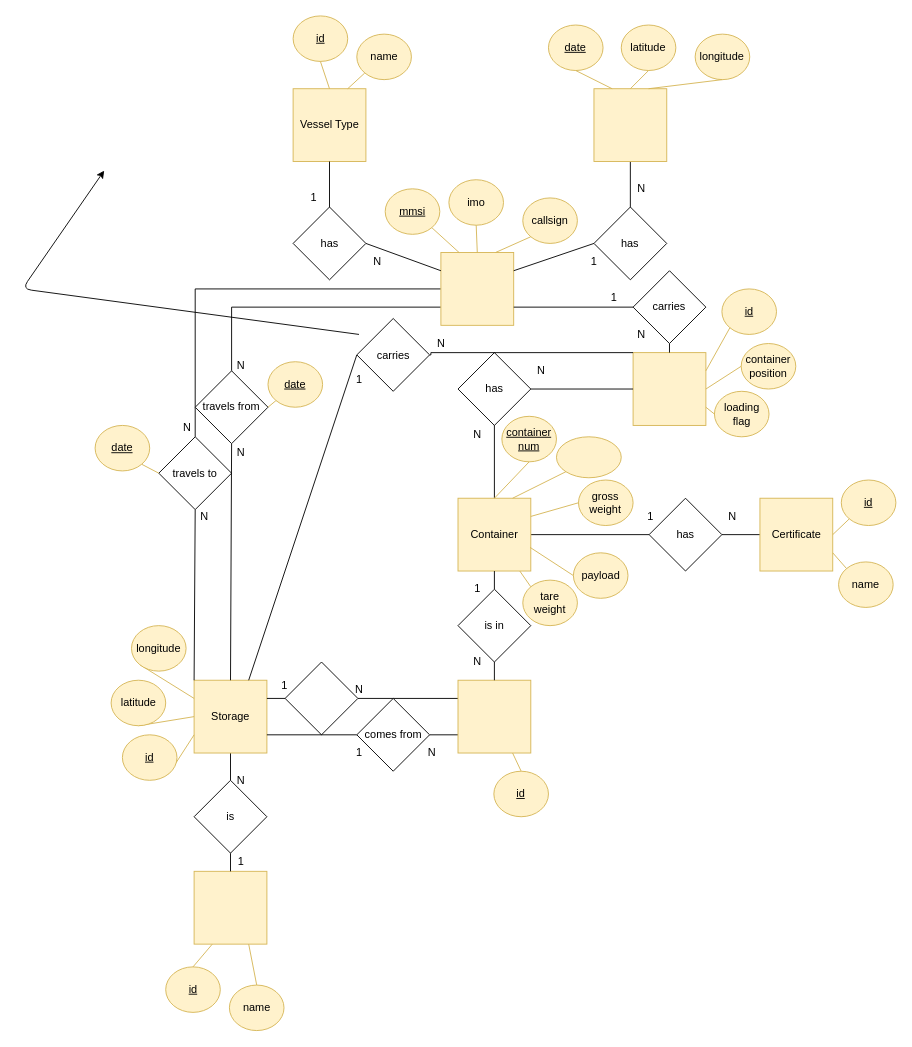
The diagram is 912 pixels wide and 1047 high, and some of its shapes have lost their labels. The shapes that lost their labels are listed below. From the top down, each one's centre as x and y in pixels, then its label:
At point 630,125: "Dynamic Data".
At point 477,288: "Ship".
At point 669,388: "Cargo Manifest".
At point 588,457: "refrigerated".
At point 321,698: "goes to".
At point 494,716: "Shipment".
At point 230,907: "Storage Type".
